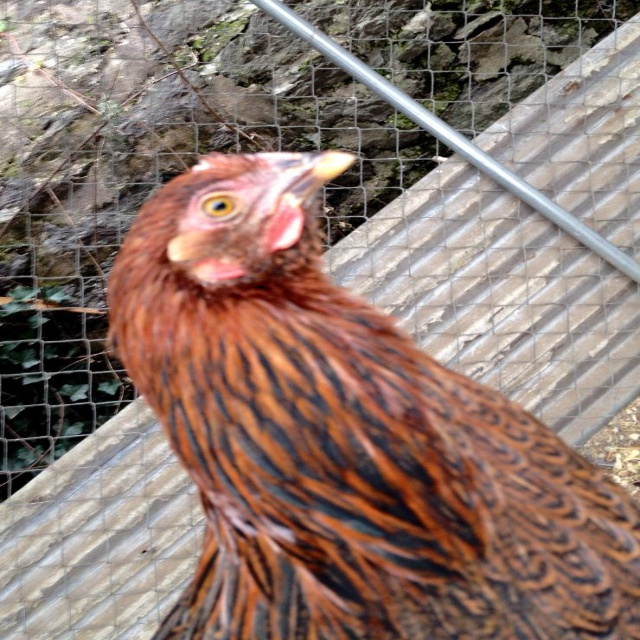Chicken: (88, 149, 640, 622)
